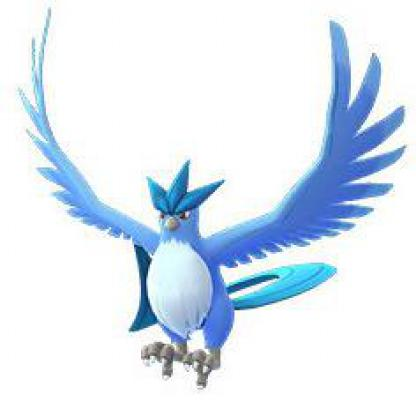Articuno: (1, 42, 415, 415)
